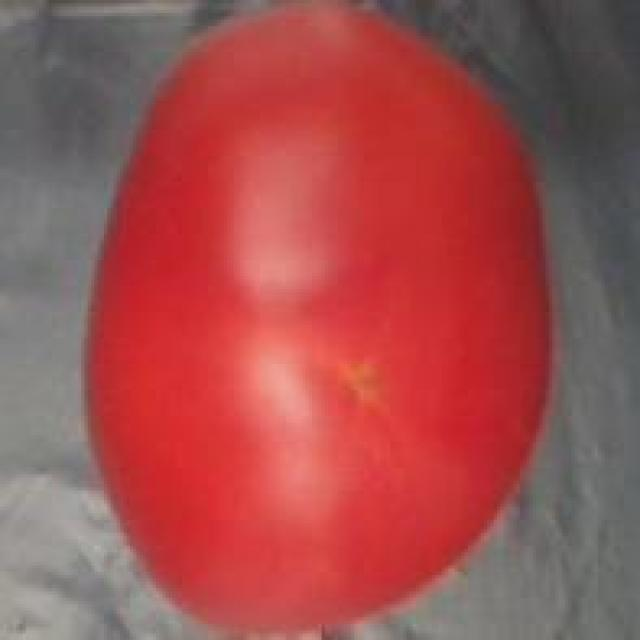ripe tomato: (72, 0, 562, 640)
